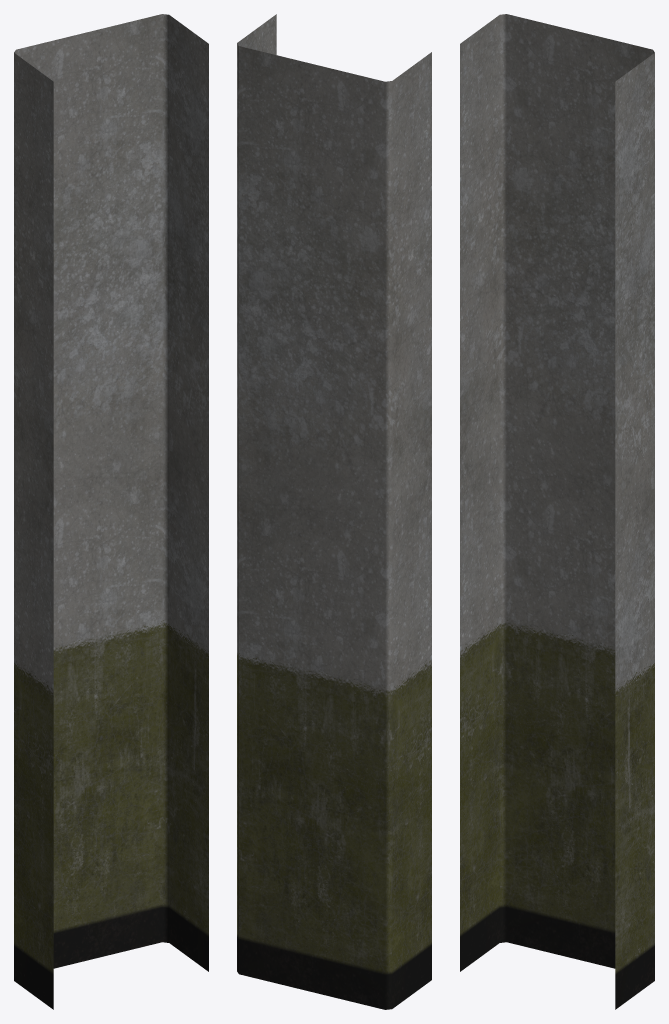
File: Basement_Corridor_E_Pillar_A.glb
3 renders of one model, left to right at view 1: azimuth 30°, elevation 25°; view 2: azimuth 150°, elevation 25°; view 3: azimuth 330°, elevation 25°, orthographic.
Parts seen in each view (by area): view 1: Basement_Corridor_E_Pillar_A; view 2: Basement_Corridor_E_Pillar_A; view 3: Basement_Corridor_E_Pillar_A.
Part boxes in pixels (x1,y1,x2,y2): Basement_Corridor_E_Pillar_A: (14,14,208,1009); Basement_Corridor_E_Pillar_A: (237,14,431,1009); Basement_Corridor_E_Pillar_A: (460,14,654,1009).
Bounding box in the file's own units: 0.7 × 4 × 0.3299.
Materials: 1 (1 with a texture image).
